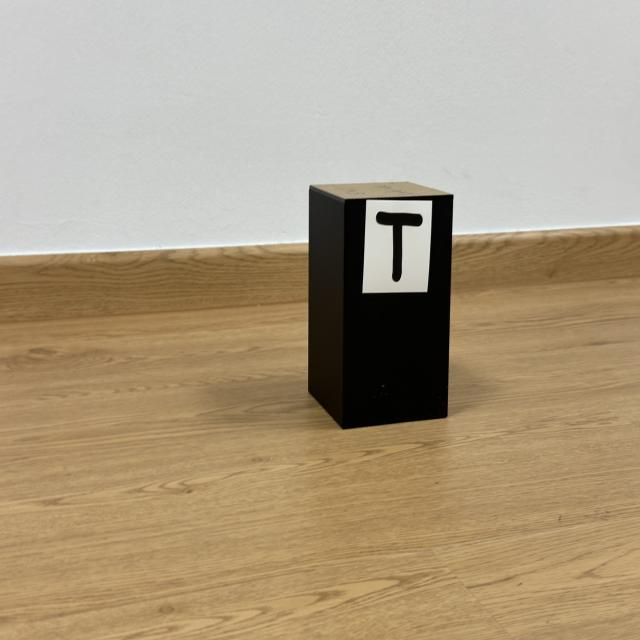T: (376, 212, 422, 282)
